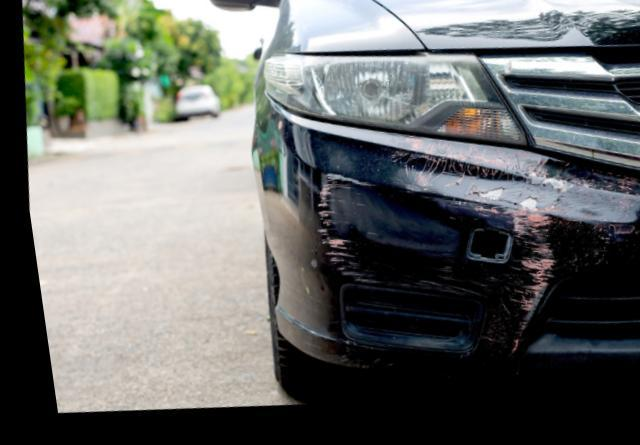rub: (308, 149, 640, 369)
